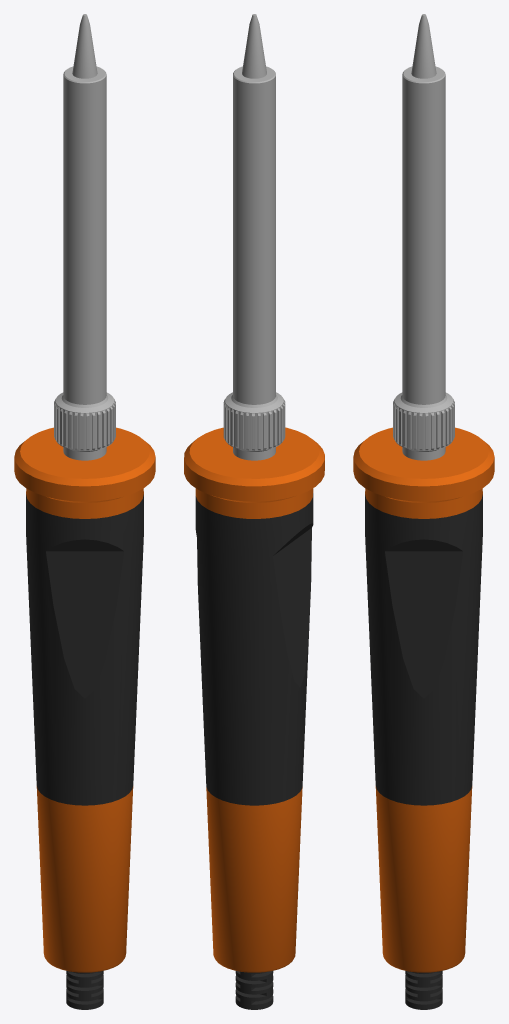
Rendered from Cautin.fbx.
3 renders of one model, left to right at view 1: azimuth 90°, elevation 25°; view 2: azimuth 150°, elevation 25°; view 3: azimuth 270°, elevation 25°, orthographic.
Parts seen in each view (by area): view 1: Soldering Iron, Soldering Tip; view 2: Soldering Iron, Soldering Tip; view 3: Soldering Iron, Soldering Tip.
Boxes of the visible parts, box(x1,y1,x2,y2) form: Soldering Iron: box(14, 427, 155, 1009); Soldering Tip: box(54, 14, 115, 460); Soldering Iron: box(184, 427, 324, 1009); Soldering Tip: box(223, 14, 285, 460); Soldering Iron: box(353, 427, 494, 1009); Soldering Tip: box(393, 14, 454, 460).
Bounding box in the file's own units: 2 × 15.43 × 2.
